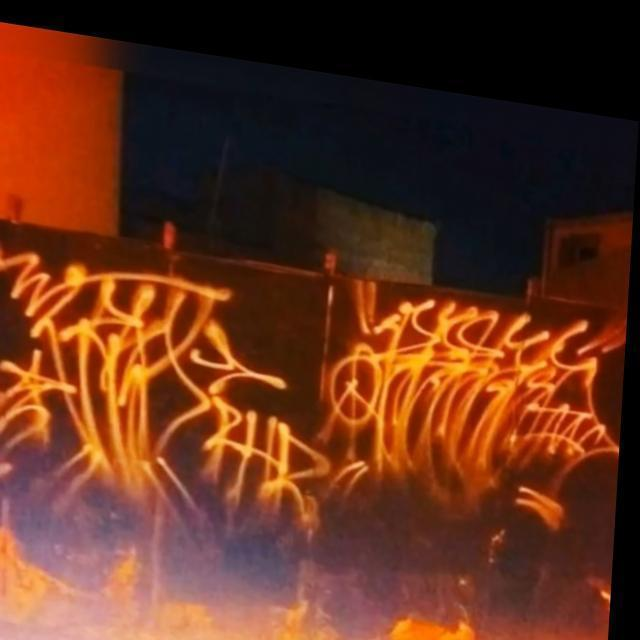nonspitting: (0, 250, 620, 533)
